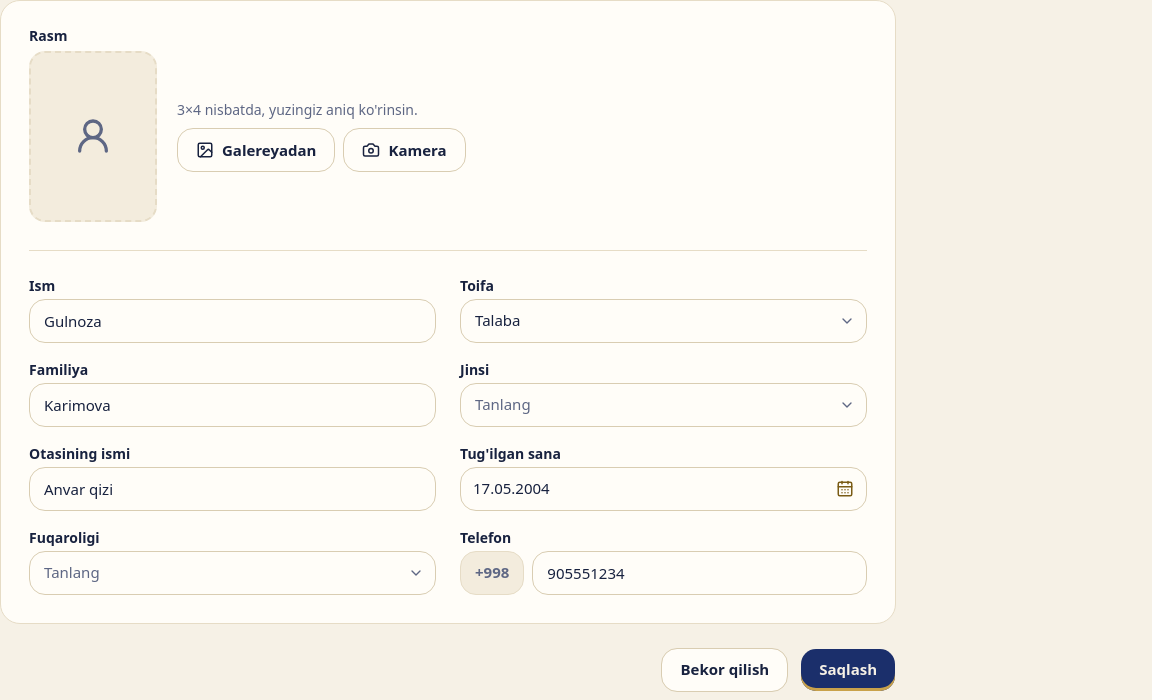
ReaderForm › should ask for gender and citizenship when an old reader has none
Click the button "Saqlash" at x=848, y=670, box left=800, top=648, right=896, bottom=692
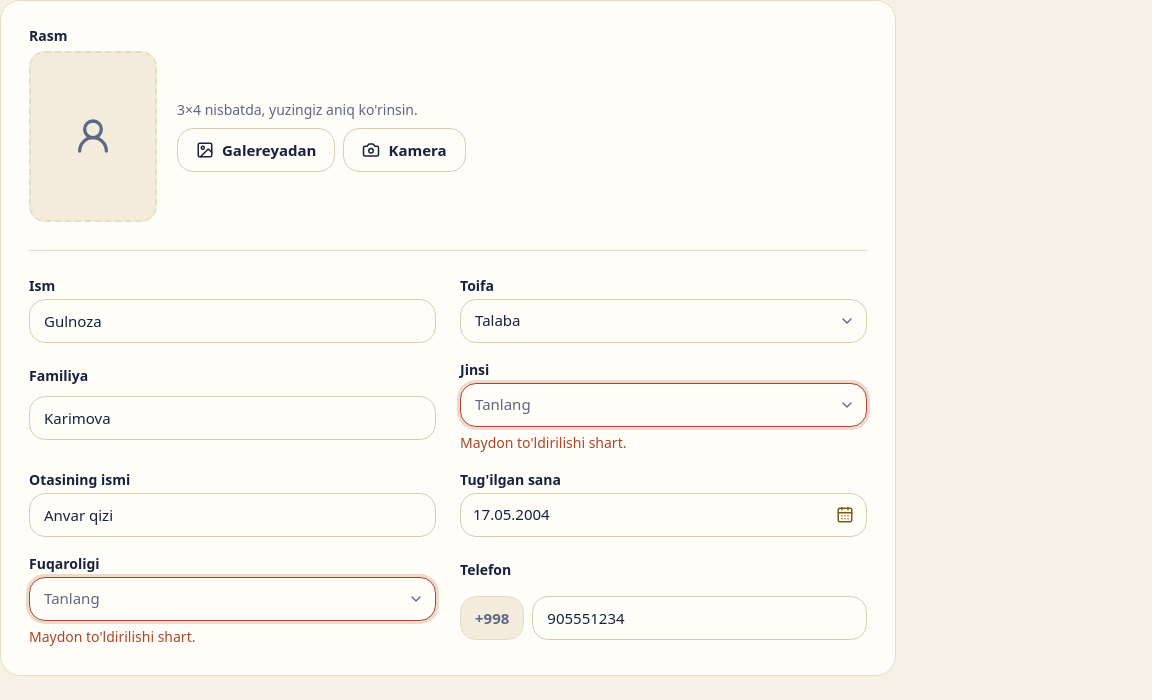
Now the text "Maydon to'ldirilishi shart." is shown 2 times, box left=460, top=433, right=626, bottom=452; left=29, top=627, right=196, bottom=646
